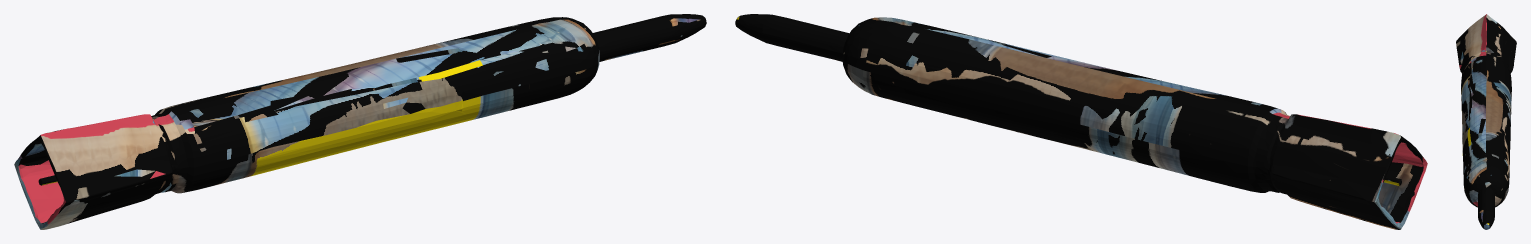
The model's file is staples_marker.obj.
3 views of the same model, side by side, from view 1: azimuth 30°, elevation 25°; view 2: azimuth 150°, elevation 25°; view 3: azimuth 270°, elevation 25° (orthographic). The views are drawn at different scales.
Visible parts, largest first — view 1: geometry_0; view 2: geometry_0; view 3: geometry_0.
Boxes of the visible parts, bbox=[...] form: geometry_0: bbox=[14, 14, 706, 229]; geometry_0: bbox=[735, 14, 1427, 229]; geometry_0: bbox=[1456, 14, 1516, 229].
Size of the model in its own units: 0.1499 by 0.0207 by 0.0207.
